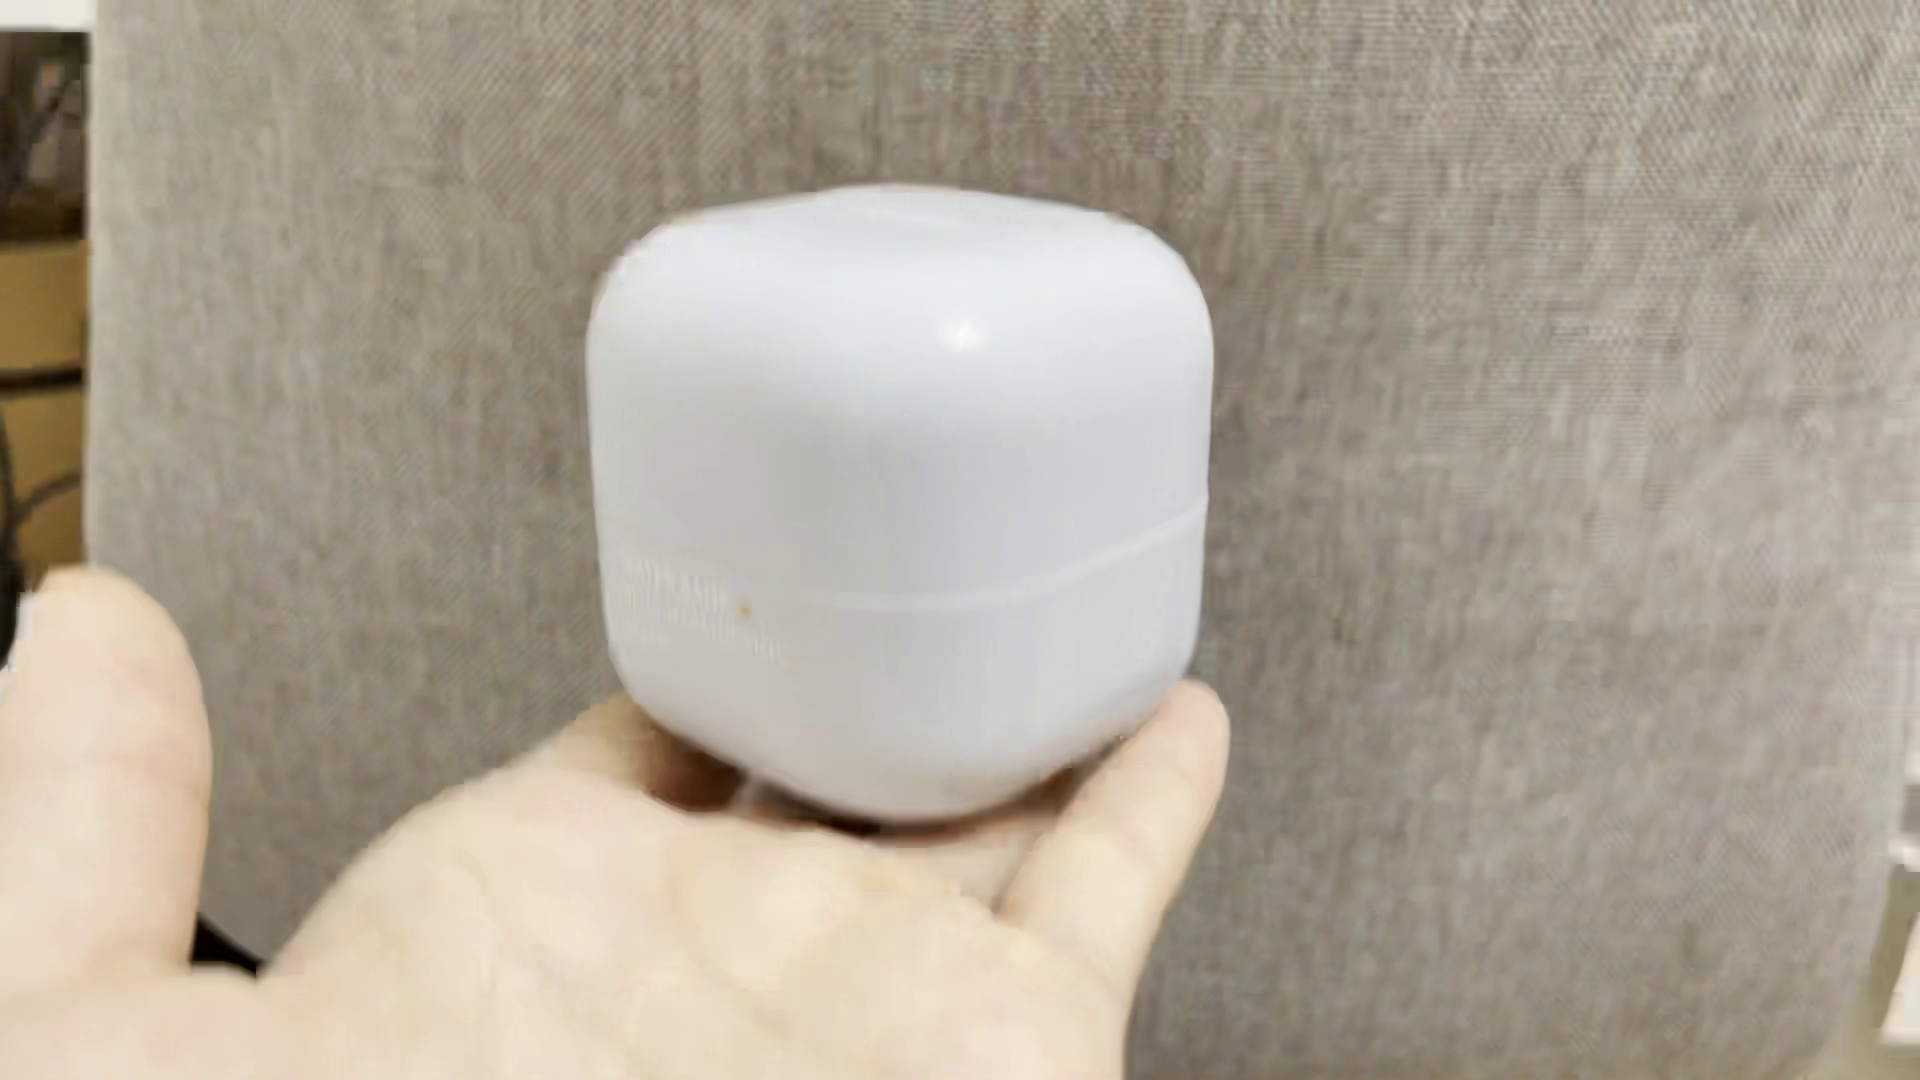cream: (592, 186, 1215, 814)
